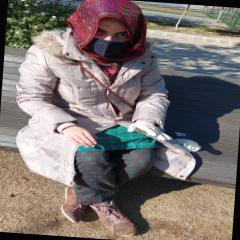gloved: (127, 119, 173, 146)
not-gloved: (58, 124, 100, 150)
